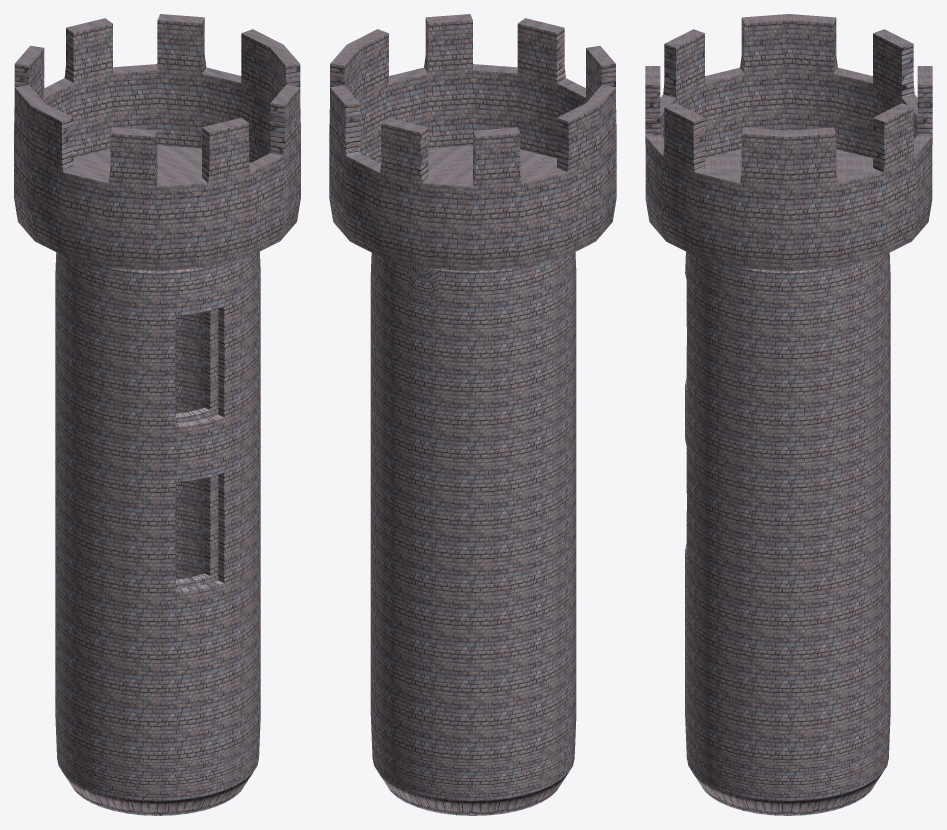
Rendered from Torre.FBX.
3 views of the same model, side by side, from view 1: azimuth 30°, elevation 25°; view 2: azimuth 150°, elevation 25°; view 3: azimuth 270°, elevation 25° (orthographic).
Parts seen in each view (by area): view 1: Tube001, Cylinder001; view 2: Tube001, Cylinder001; view 3: Tube001, Cylinder001.
Part boxes in pixels (bbox=[...]): Tube001: bbox=[55, 252, 260, 815]; Cylinder001: bbox=[14, 14, 300, 271]; Tube001: bbox=[370, 252, 576, 815]; Cylinder001: bbox=[329, 14, 616, 271]; Tube001: bbox=[685, 251, 890, 815]; Cylinder001: bbox=[645, 14, 932, 271].
Size of the model in its own units: 379 by 1010 by 374.
